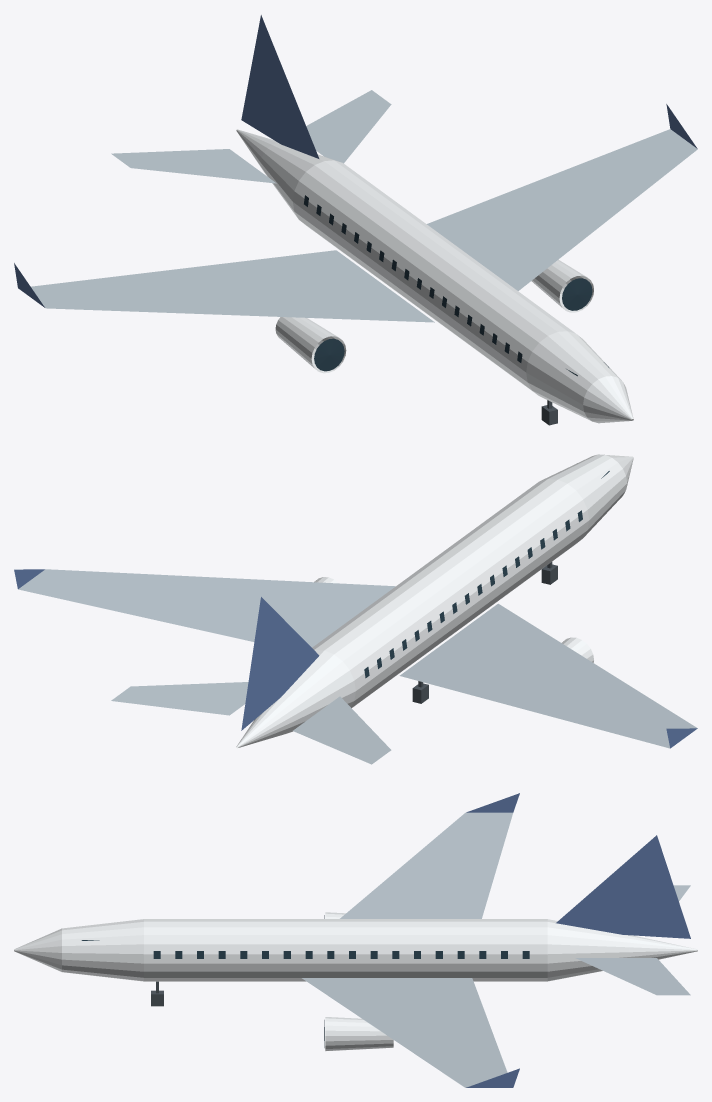
File: b787-BAW.gltf
The picture shows the model from 3 angles, top to bottom: view 1: azimuth 30°, elevation 25°; view 2: azimuth 150°, elevation 25°; view 3: azimuth 270°, elevation 25°; orthographic projection. The views are drawn at different scales.
Visible parts, largest first — view 1: object 1; view 2: object 1, Gear; view 3: object 1.
Part boxes in pixels (x1,y1,x2,y2): object 1: [14, 15, 697, 423]; object 1: [14, 454, 697, 764]; Gear: [412, 562, 557, 703]; object 1: [14, 793, 697, 1087].
Bounding box in the file's own units: 60 × 17.22 × 63.
